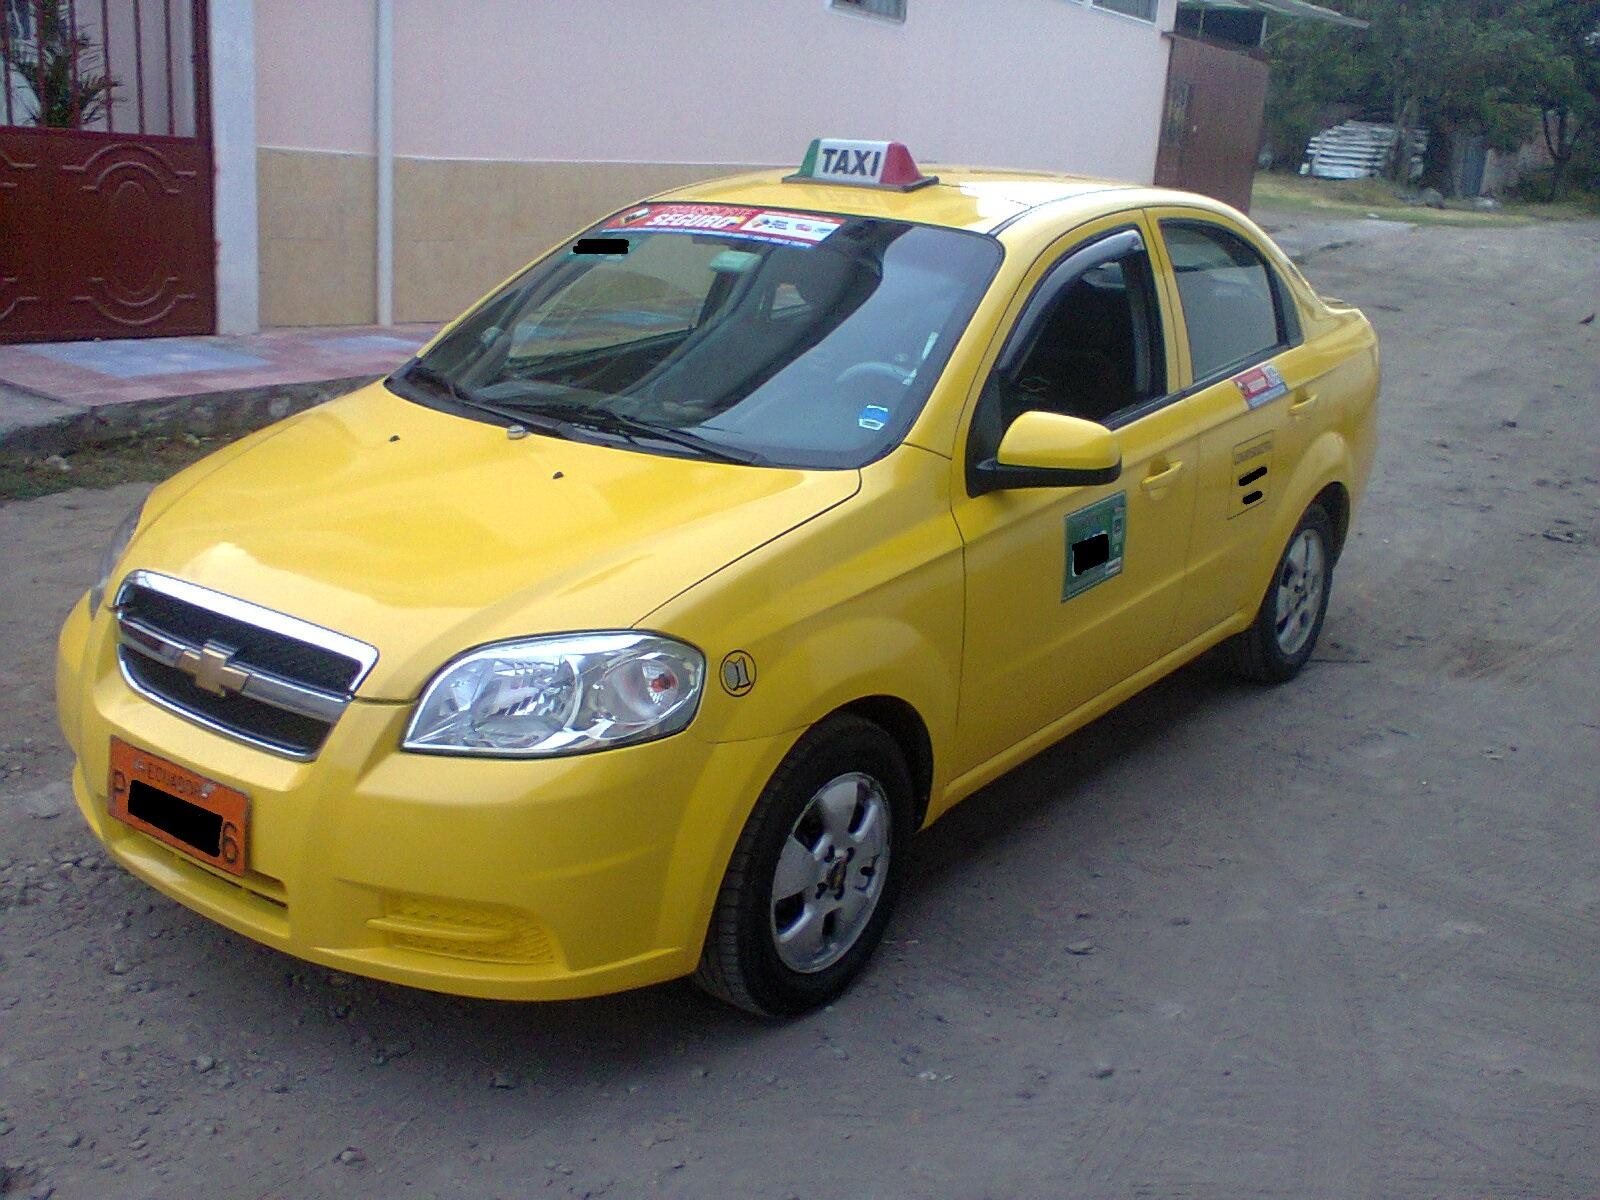taxi: (93, 97, 1426, 1007)
